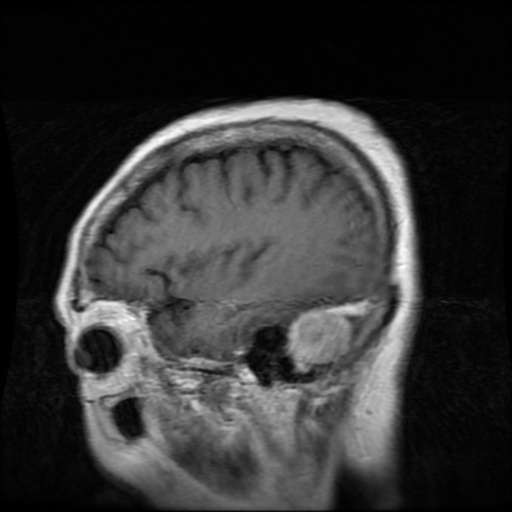meningioma: (287, 307, 353, 373)
